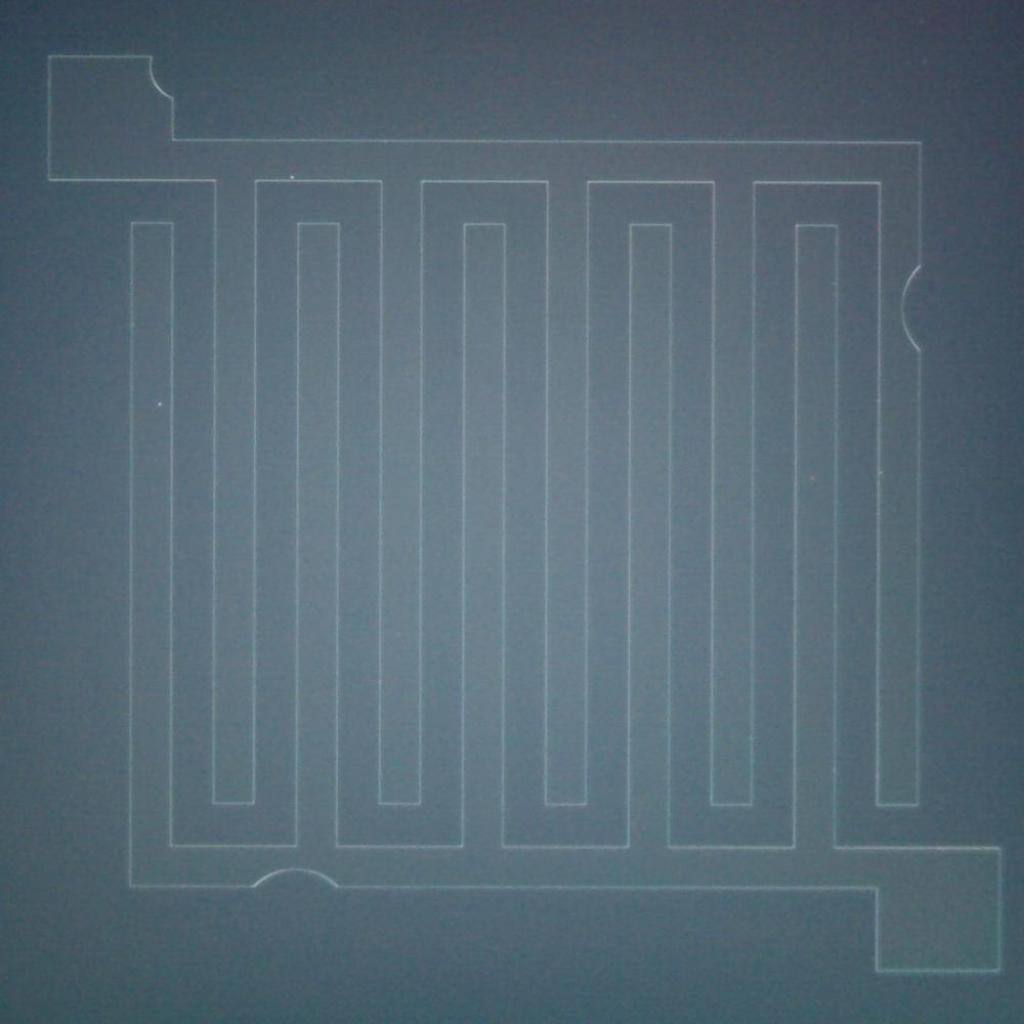curve circuit: (892, 253, 944, 365), (230, 858, 354, 900), (132, 44, 191, 113)
